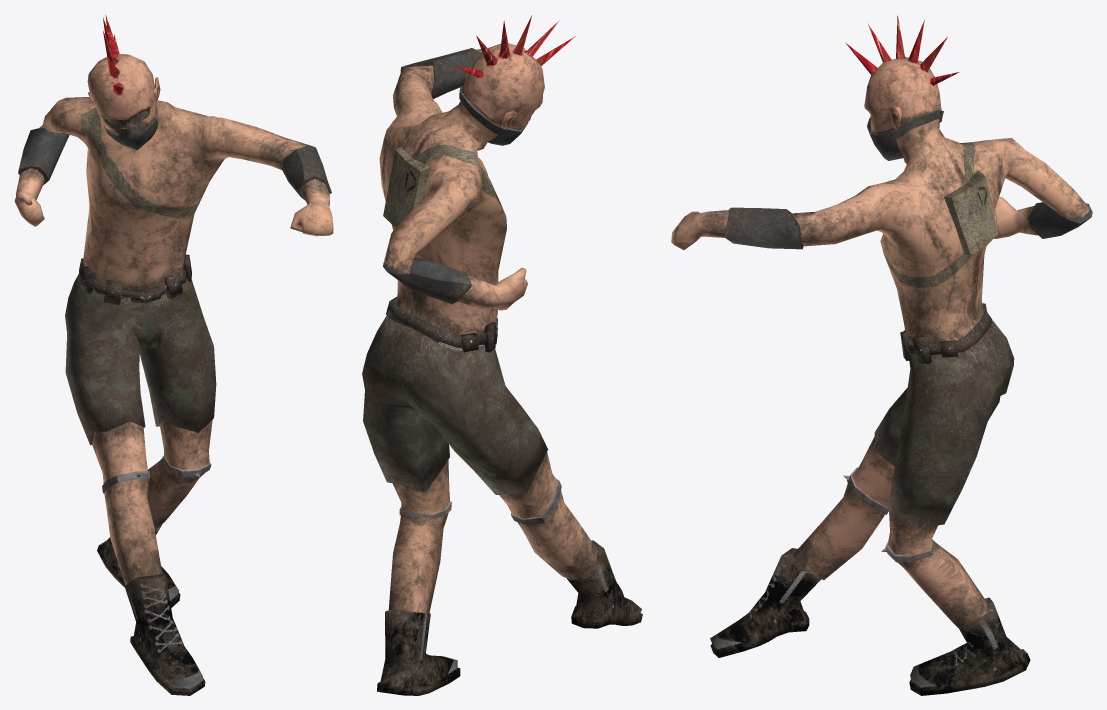
File: Anim_ataque_d3_npc2.0027.obj
3 renders of one model, left to right at view 1: azimuth 30°, elevation 25°; view 2: azimuth 150°, elevation 25°; view 3: azimuth 270°, elevation 25°, orthographic. The views are drawn at different scales.
Visible parts, largest first — view 1: polySurface1; view 2: polySurface1; view 3: polySurface1.
Boxes of the visible parts, bbox=[...] form: polySurface1: bbox=[14, 15, 333, 695]; polySurface1: bbox=[362, 15, 642, 695]; polySurface1: bbox=[671, 15, 1092, 695].
Bounding box in the file's own units: 3.38 × 9.55 × 5.7.
